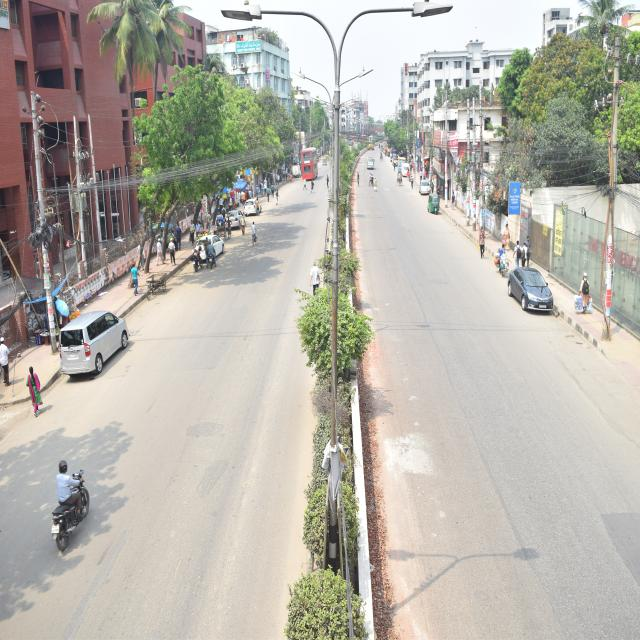bus: (300, 141, 322, 196)
car: (38, 272, 156, 393), (500, 232, 571, 378), (171, 213, 238, 270), (212, 198, 249, 236), (234, 186, 276, 218), (414, 170, 449, 200), (397, 160, 420, 183)
motorbike: (26, 398, 106, 590), (197, 226, 220, 285), (192, 233, 199, 294)
pickup-van: (289, 153, 305, 196), (363, 145, 377, 181)
